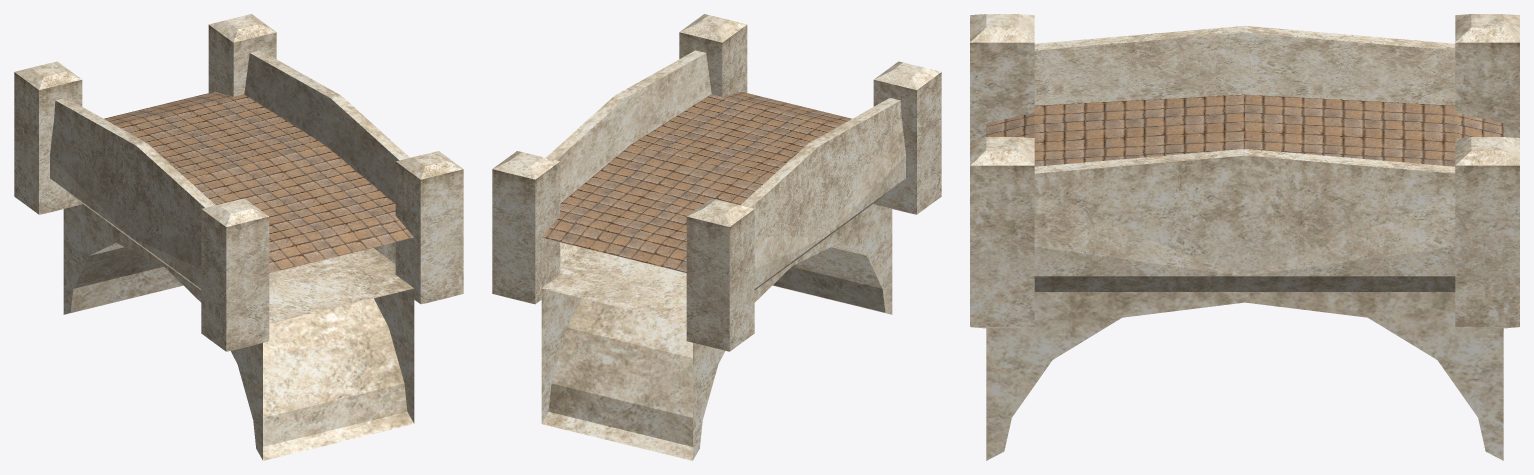
The model's file is thm_tato_imprv_bridge_sml_s01_l1.fbx.
The picture shows the model from 3 angles, left to right: view 1: azimuth 30°, elevation 25°; view 2: azimuth 150°, elevation 25°; view 3: azimuth 270°, elevation 25°; orthographic projection. The views are drawn at different scales.
Visible parts, largest first — view 1: mesh_node; view 2: mesh_node; view 3: mesh_node.
Boxes of the visible parts, box(x1,y1,x2,y2) form: mesh_node: box(14, 14, 463, 460); mesh_node: box(492, 14, 941, 460); mesh_node: box(970, 14, 1519, 460).
Size of the model in its own units: 5.5 by 5.64 by 8.5.
